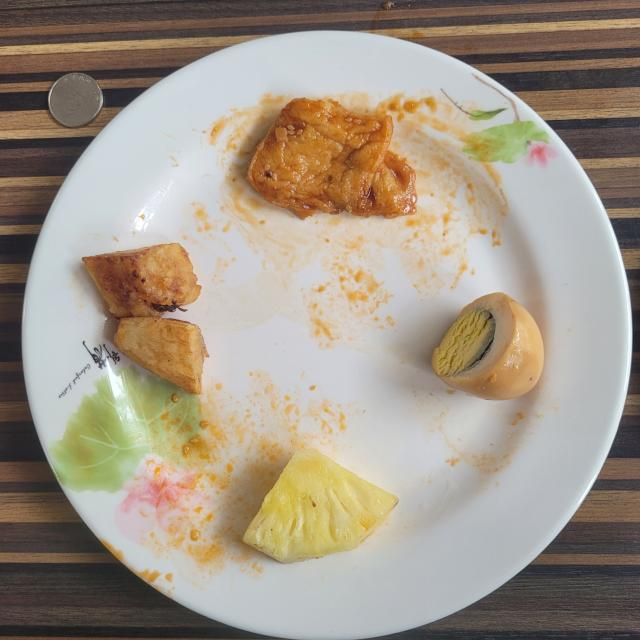coin: (48, 72, 104, 128)
creamy tofu: (248, 98, 416, 219)
fried potato: (82, 244, 209, 394)
pineapple: (242, 449, 398, 562)
soy egg: (431, 292, 544, 400)
